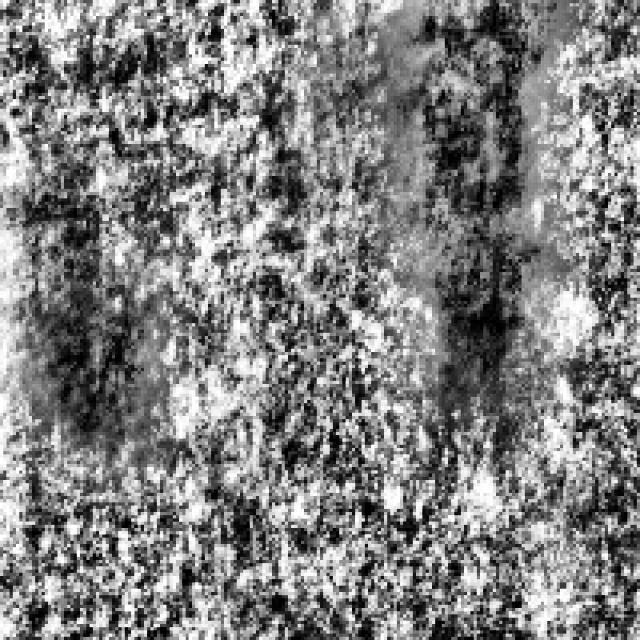Scratches: (394, 0, 550, 371), (25, 278, 154, 444)
